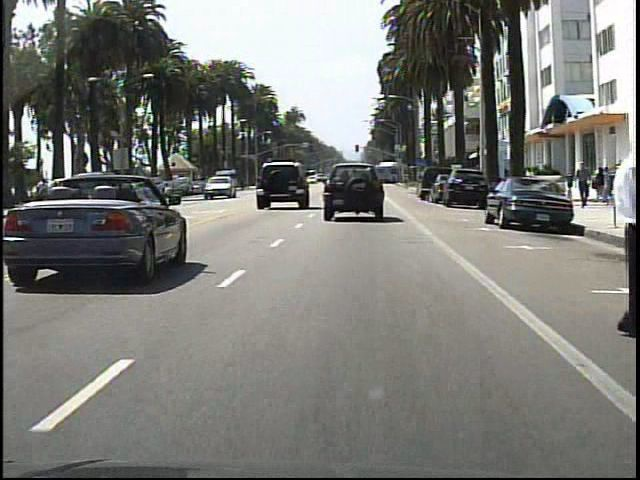person: (601, 131, 640, 336), (570, 155, 593, 213)
